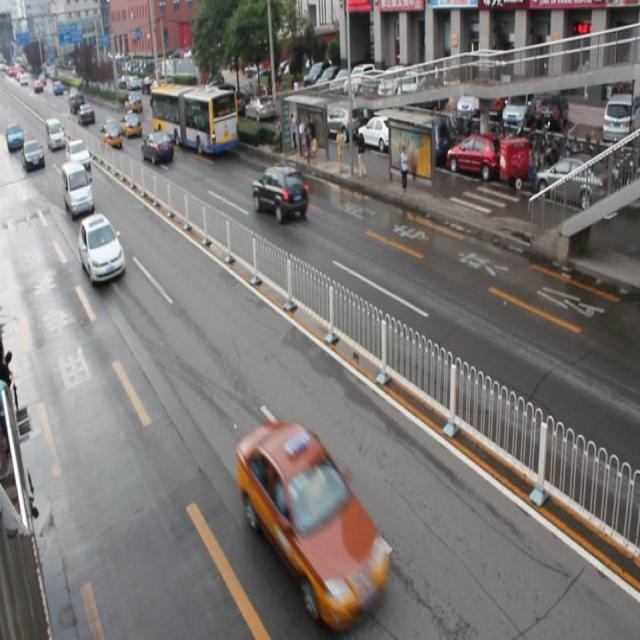car: (236, 418, 391, 630), (79, 210, 125, 284), (252, 162, 308, 222), (140, 130, 174, 166), (65, 139, 90, 167)
truck: (62, 160, 93, 217)
van: (151, 84, 240, 157)
